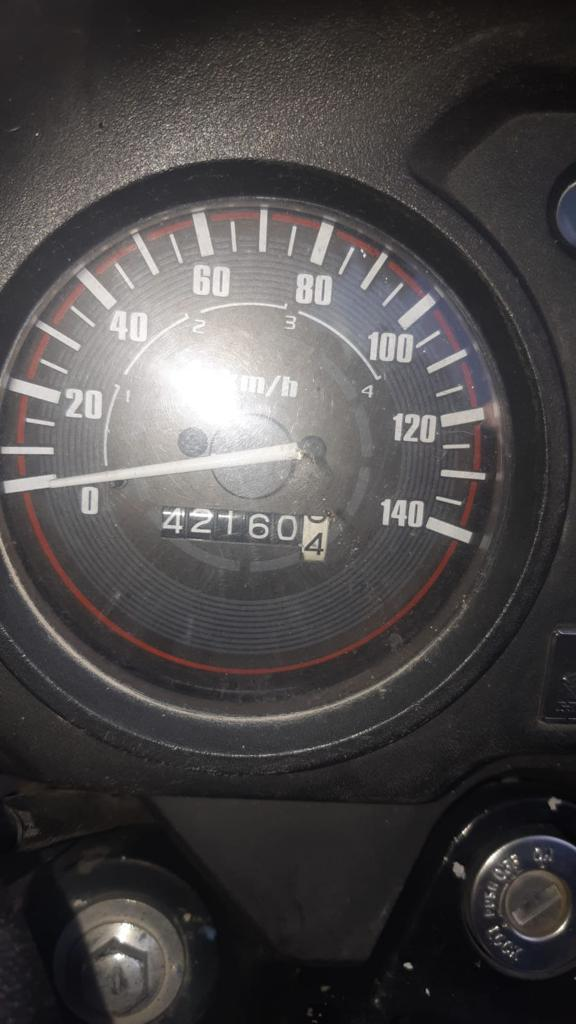0: (276, 514, 297, 541)
1: (226, 510, 234, 536)
2: (189, 508, 212, 533)
4: (162, 507, 183, 533), (303, 532, 323, 555)
6: (248, 512, 270, 539)
odometer: (158, 503, 331, 563)
